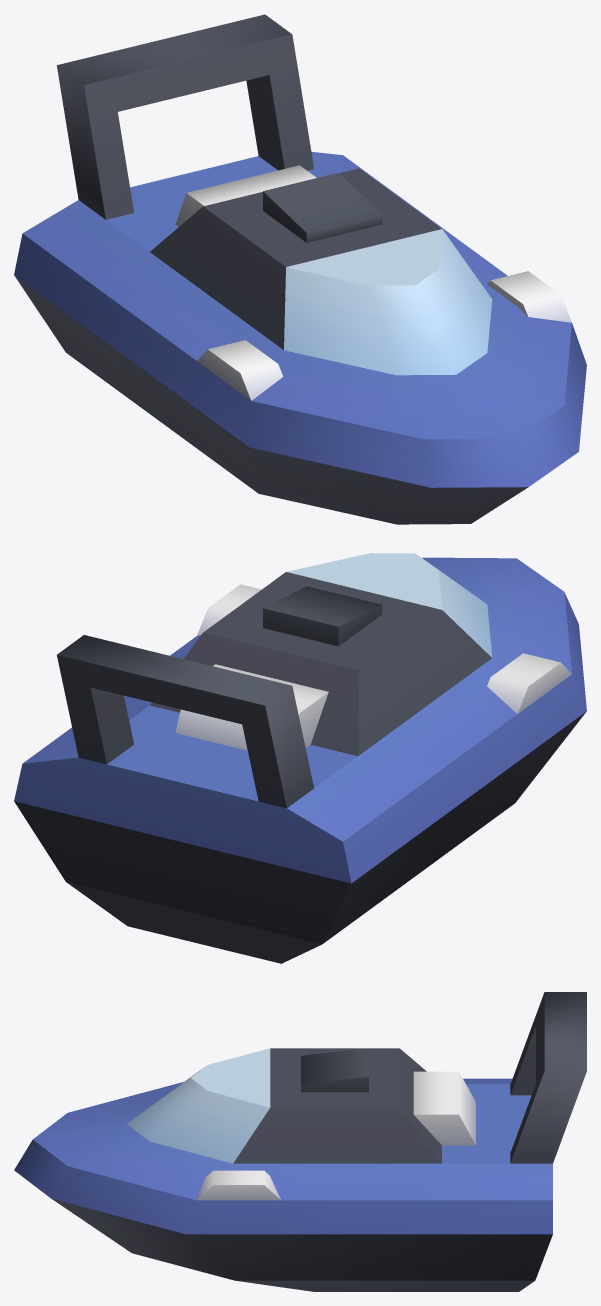
Rendered from k-watercraft-boat-speed-a.glb.
The picture shows the model from 3 angles, top to bottom: view 1: azimuth 30°, elevation 25°; view 2: azimuth 150°, elevation 25°; view 3: azimuth 270°, elevation 25°; orthographic projection. The views are drawn at different scales.
Parts seen in each view (by area): view 1: boat-speed-a; view 2: boat-speed-a; view 3: boat-speed-a.
Part boxes in pixels (bbox=[...]): boat-speed-a: bbox=[14, 14, 586, 524]; boat-speed-a: bbox=[14, 553, 586, 963]; boat-speed-a: bbox=[14, 992, 586, 1291].
Bounding box in the file's own units: 1.79 × 1.5 × 3.37.
1 material, 1 textured.
